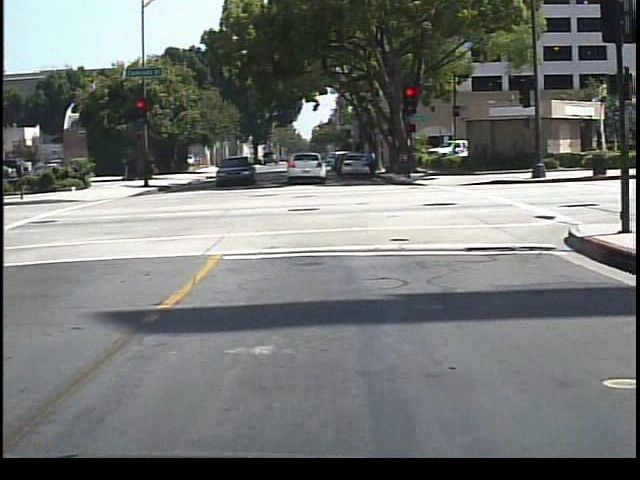person: (362, 144, 384, 185)
